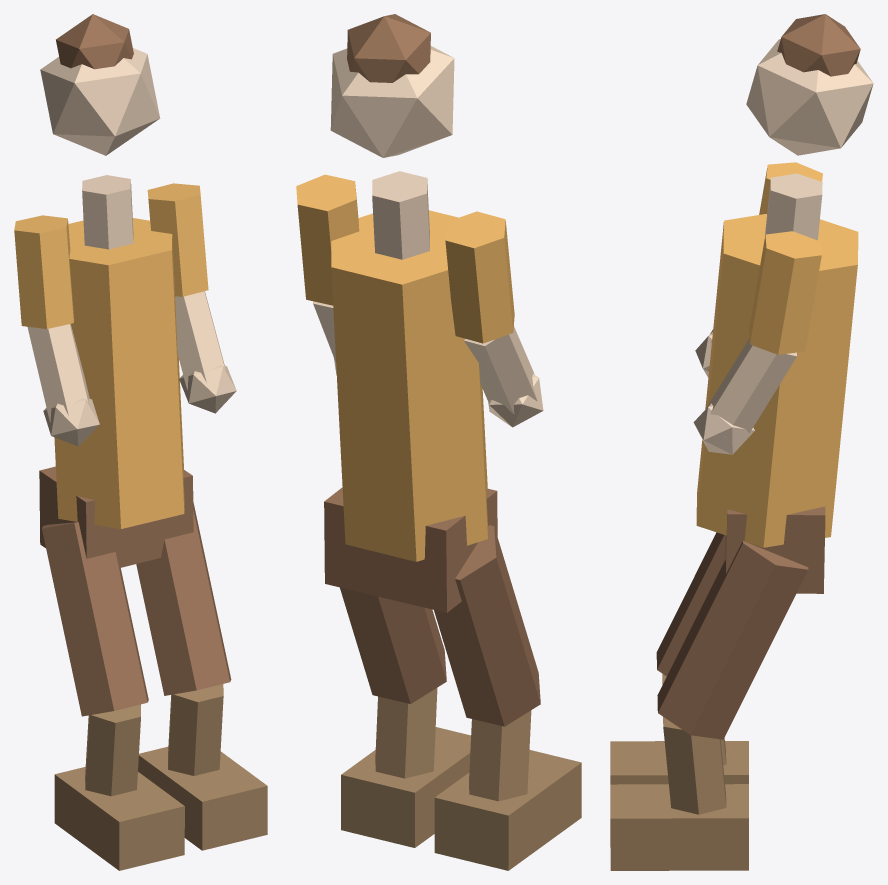
Rendered from pose_hit_light_14.glb.
The picture shows the model from 3 angles, left to right: view 1: azimuth 30°, elevation 25°; view 2: azimuth 150°, elevation 25°; view 3: azimuth 270°, elevation 25°; orthographic projection. The views are drawn at different scales.
Visible parts, largest first — view 1: pose; view 2: pose; view 3: pose.
Boxes of the visible parts, x1,y1,x2,y2 form: pose: (14,14,267,870); pose: (296,14,581,870); pose: (610,14,873,870).
Size of the model in its own units: 0.3963 by 1.56 by 0.4559.
